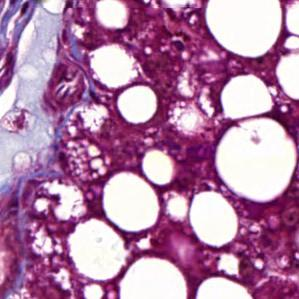steatosis: (98, 173, 163, 238), (182, 192, 243, 248), (113, 87, 161, 123)
